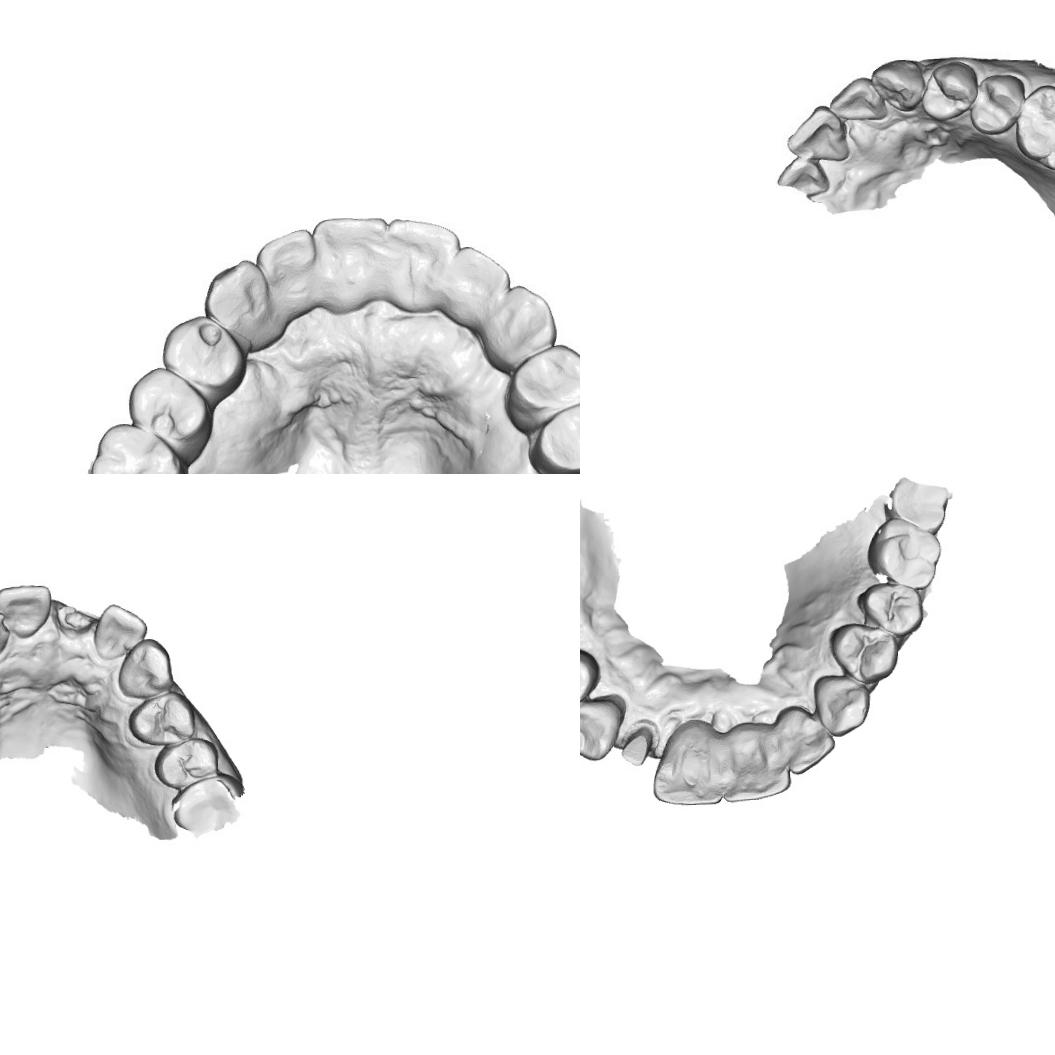canine: (477, 282, 560, 376), (204, 262, 276, 356), (115, 637, 176, 700), (814, 673, 873, 738), (580, 694, 629, 763), (869, 58, 926, 112)
crown: (619, 725, 655, 769)
incisor: (315, 214, 395, 313), (648, 716, 729, 808), (389, 212, 459, 313), (720, 720, 790, 804), (440, 237, 506, 324), (260, 232, 322, 312), (774, 704, 837, 776), (782, 102, 852, 164), (90, 600, 150, 662), (826, 74, 890, 126), (0, 582, 52, 640), (0, 611, 11, 662)
molar: (864, 514, 944, 594), (92, 418, 183, 474), (167, 774, 244, 838), (1012, 81, 1055, 173)
premolar: (162, 317, 252, 398), (130, 366, 210, 452), (508, 344, 580, 427), (829, 620, 900, 688), (124, 690, 199, 748), (856, 581, 926, 640), (151, 735, 222, 792), (966, 71, 1028, 136), (920, 59, 981, 121), (533, 403, 580, 474), (580, 645, 603, 713)
